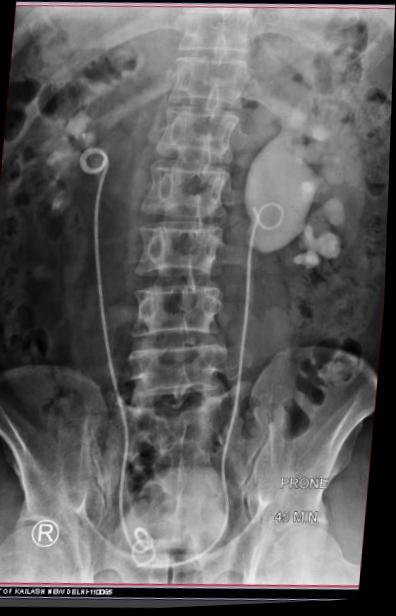vertebrae: (164, 89, 251, 163)
